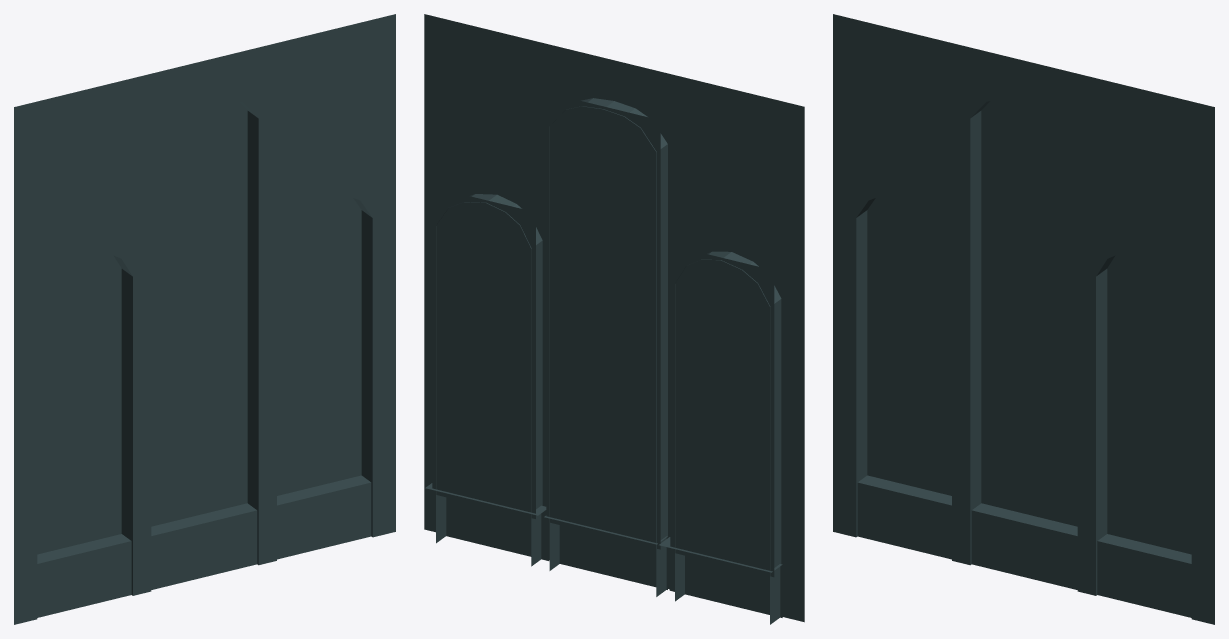
The model's file is Museum_Ark_Windows.fbx.
3 views of the same model, side by side, from view 1: azimuth 30°, elevation 25°; view 2: azimuth 150°, elevation 25°; view 3: azimuth 330°, elevation 25° (orthographic).
Visible parts, largest first — view 1: Archi_Murs_Fenetres.001; view 2: Archi_Murs_Fenetres.001; view 3: Archi_Murs_Fenetres.001.
Part boxes in pixels (left/top/right/bottom): Archi_Murs_Fenetres.001: left=14, top=14, right=395, bottom=624; Archi_Murs_Fenetres.001: left=424, top=14, right=804, bottom=624; Archi_Murs_Fenetres.001: left=833, top=14, right=1214, bottom=624.
Size of the model in its own units: 549 by 711 by 31.28.
